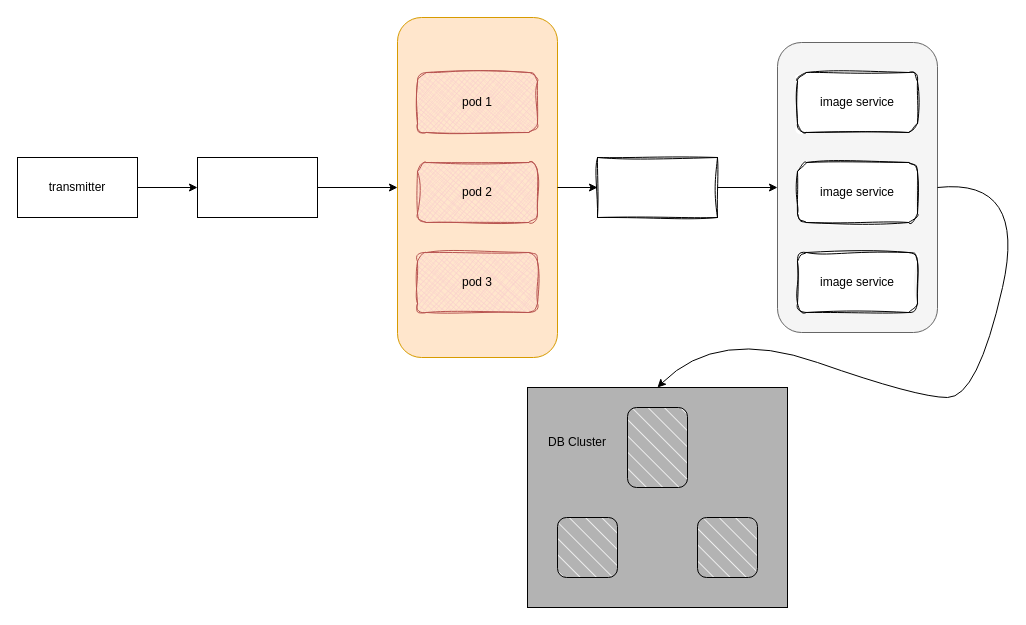
This 1026x625 diagram has some shape labels left out. The box of each missing label's shape, as (x1, y1, x2, y2) in pixels:
fpga: (196, 156, 318, 218)
message queue: (596, 156, 718, 218)
